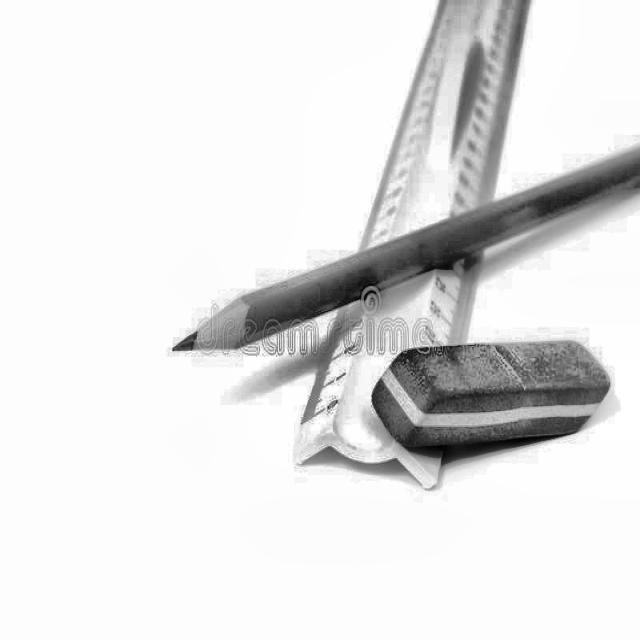eraser: (384, 314, 640, 462)
